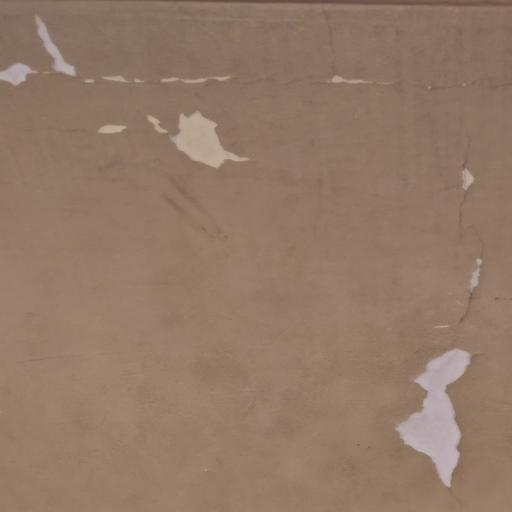peeling: (392, 326, 503, 499), (91, 97, 269, 180), (446, 130, 503, 322), (2, 0, 89, 108), (74, 56, 244, 104), (318, 54, 414, 96)
